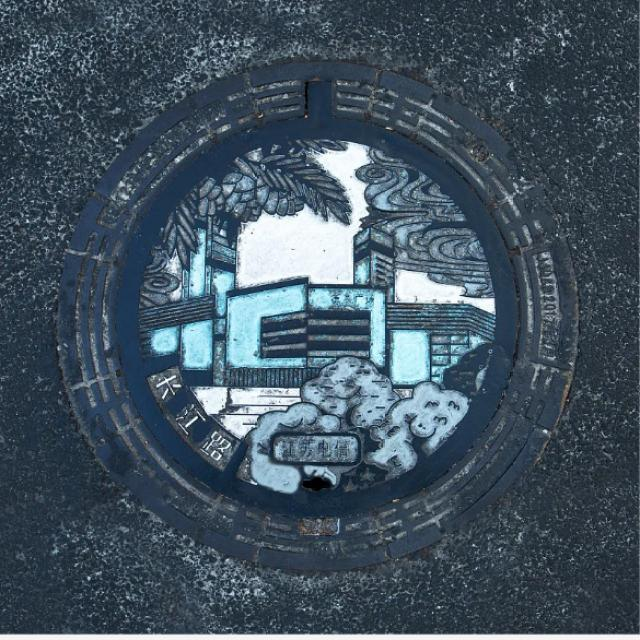manhole: (59, 64, 578, 569)
